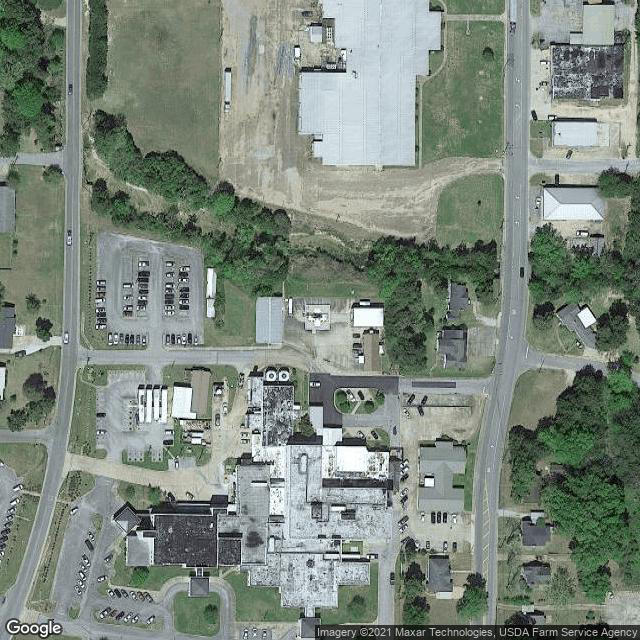Helipad: (302, 301, 331, 331)
